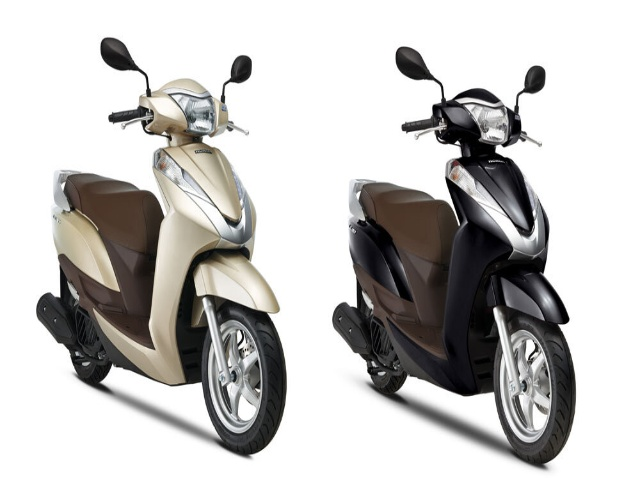Xe_may: (34, 30, 285, 456), (331, 39, 579, 469)
